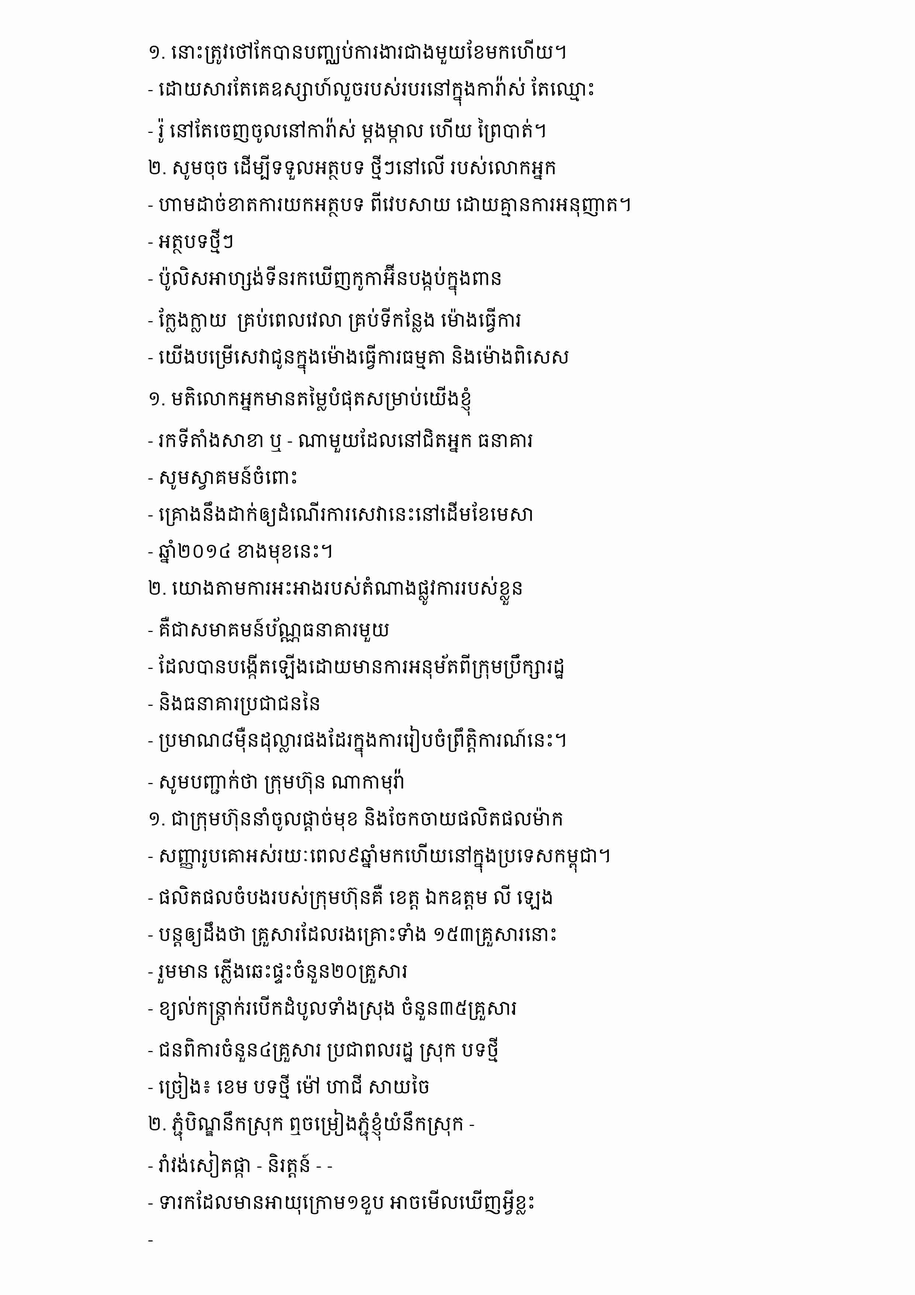text: (148, 843, 616, 873), (148, 75, 600, 106), (148, 725, 572, 758), (148, 344, 574, 374), (148, 192, 636, 217), (148, 995, 522, 1026), (148, 264, 508, 296), (148, 39, 572, 65), (148, 576, 528, 605), (148, 921, 563, 947), (148, 884, 559, 910), (148, 1109, 480, 1141), (148, 654, 570, 679), (148, 806, 569, 831), (148, 117, 552, 143), (148, 155, 562, 180), (148, 1189, 541, 1215), (148, 501, 539, 527), (148, 427, 538, 453), (148, 386, 477, 416), (148, 307, 527, 333), (148, 1037, 504, 1062), (148, 1072, 435, 1099), (148, 958, 413, 984), (148, 768, 410, 794), (148, 616, 395, 642), (148, 1151, 338, 1178), (148, 539, 338, 564), (148, 691, 326, 716), (148, 465, 303, 490), (148, 229, 239, 254), (148, 1240, 158, 1246)
